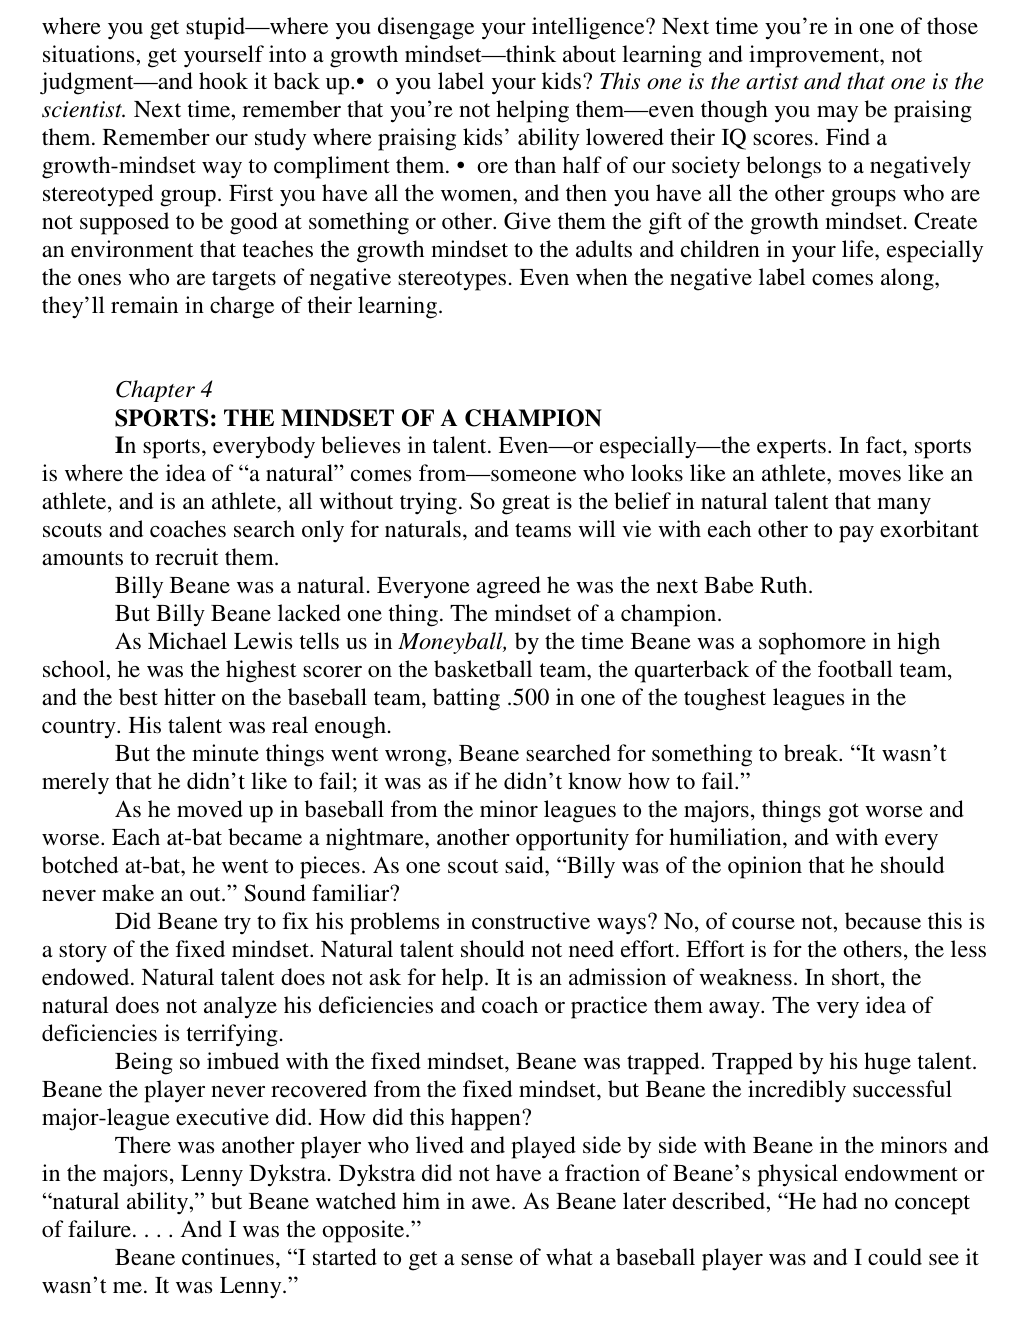latin: (39, 14, 986, 323), (37, 1052, 991, 1305), (34, 571, 957, 744), (38, 744, 964, 909), (29, 910, 996, 1052), (39, 435, 983, 571), (114, 377, 603, 430)
